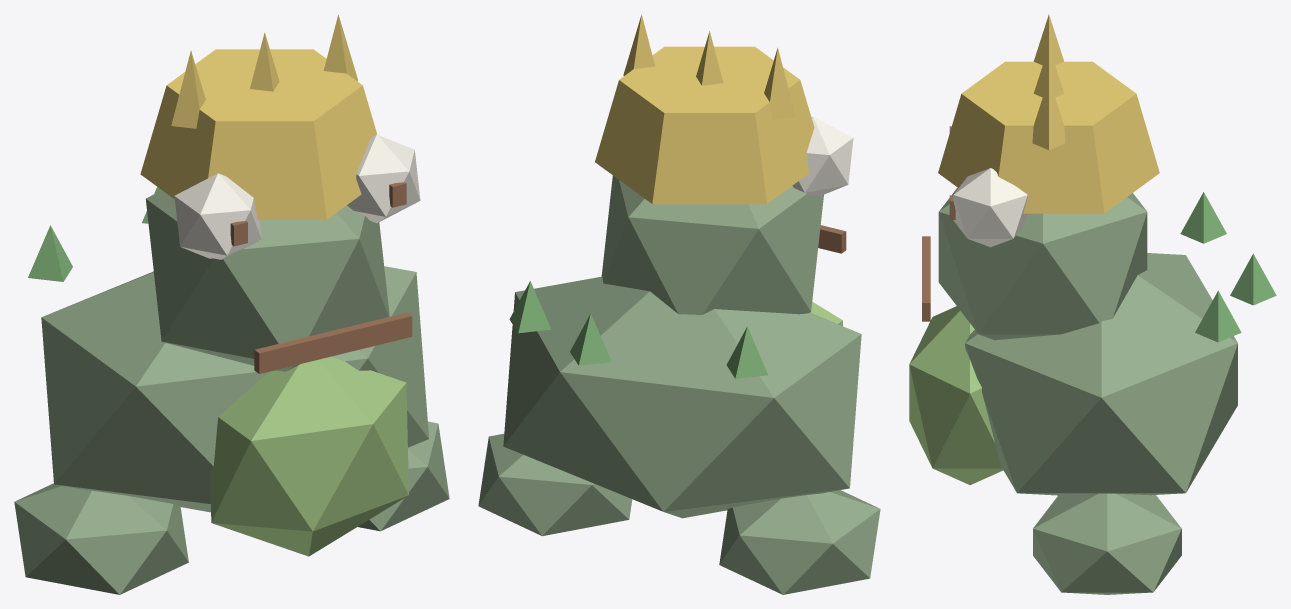
File: npcpose_toad_king_idle_00.glb
The picture shows the model from 3 angles, left to right: view 1: azimuth 30°, elevation 25°; view 2: azimuth 150°, elevation 25°; view 3: azimuth 270°, elevation 25°; orthographic projection. The views are drawn at different scales.
Visible parts, largest first — view 1: npcpose; view 2: npcpose; view 3: npcpose.
Part boxes in pixels (x1,y1,x2,y2): npcpose: (14, 14, 449, 594); npcpose: (478, 14, 880, 594); npcpose: (909, 14, 1276, 594).
Size of the model in its own units: 1.75 by 2.23 by 1.51.
